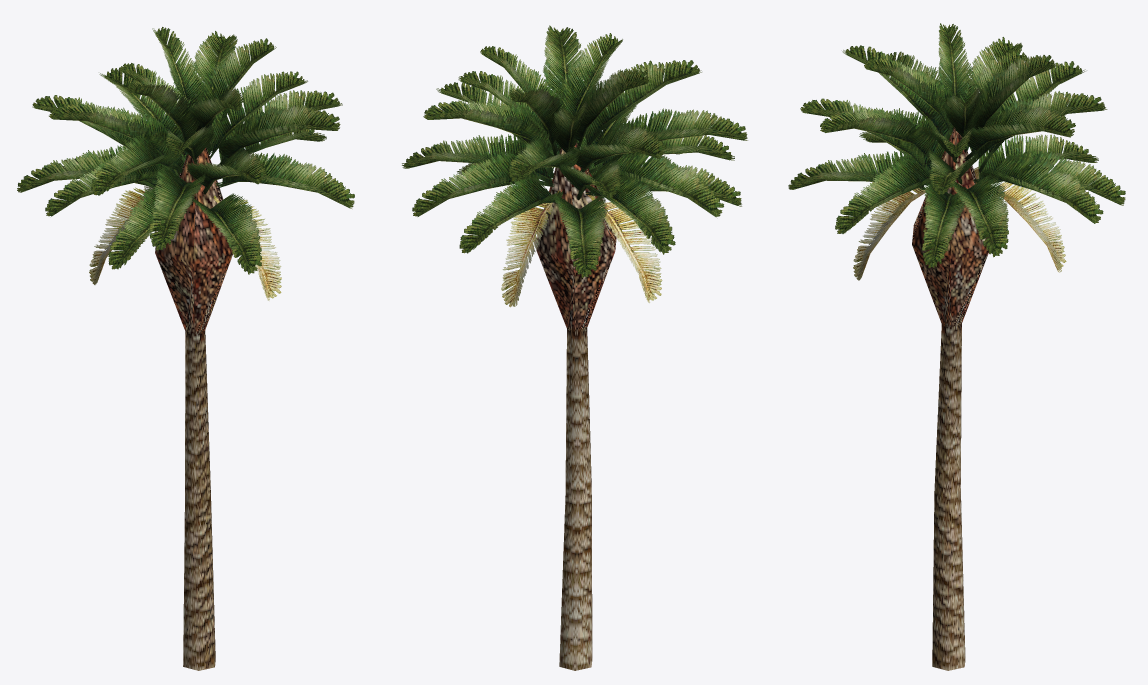
The model's file is tree_cretan_date_palm_02.dae.
3 views of the same model, side by side, from view 1: azimuth 30°, elevation 25°; view 2: azimuth 150°, elevation 25°; view 3: azimuth 270°, elevation 25° (orthographic).
Visible parts, largest first — view 1: tree_cretan_date_palm_02; view 2: tree_cretan_date_palm_02; view 3: tree_cretan_date_palm_02.
Boxes of the visible parts, x1,y1,x2,y2 form: tree_cretan_date_palm_02: (17,27,354,670); tree_cretan_date_palm_02: (402,25,747,670); tree_cretan_date_palm_02: (788,23,1125,670).
Bounding box in the file's own units: 9.29 × 17.81 × 9.18.
